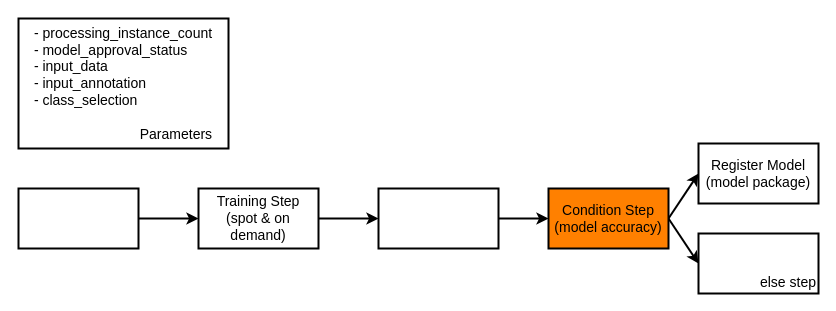
This 836x311 diagram has some shape labels left out. Here are the shapes that lost their labels. From the top down, the centre of each, then its label:
[78,218]: Processing Step
[438,218]: Processing Step (model-evaluation)
